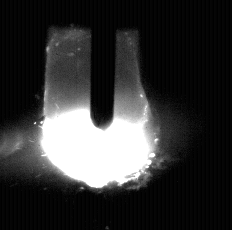arame: (90, 0, 116, 131)
poca: (39, 0, 153, 230)
